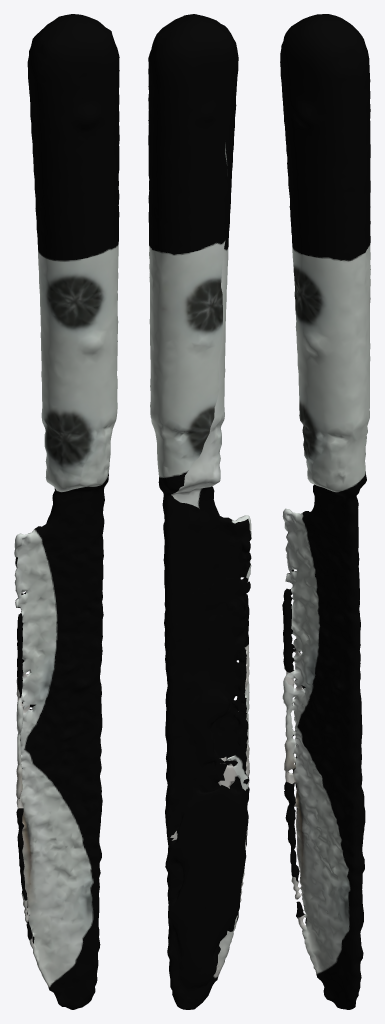
The picture shows the model from 3 angles, left to right: view 1: azimuth 30°, elevation 25°; view 2: azimuth 210°, elevation 25°; view 3: azimuth 330°, elevation 25°; orthographic projection.
Visible parts, largest first — view 1: textured.027; view 2: textured.027; view 3: textured.027.
Part boxes in pixels (x1,y1,x2,y2): textured.027: (14, 14, 119, 1009); textured.027: (148, 14, 251, 1009); textured.027: (280, 14, 370, 1009).
Bounding box in the file's own units: 0.0206 × 0.2149 × 0.0149.
